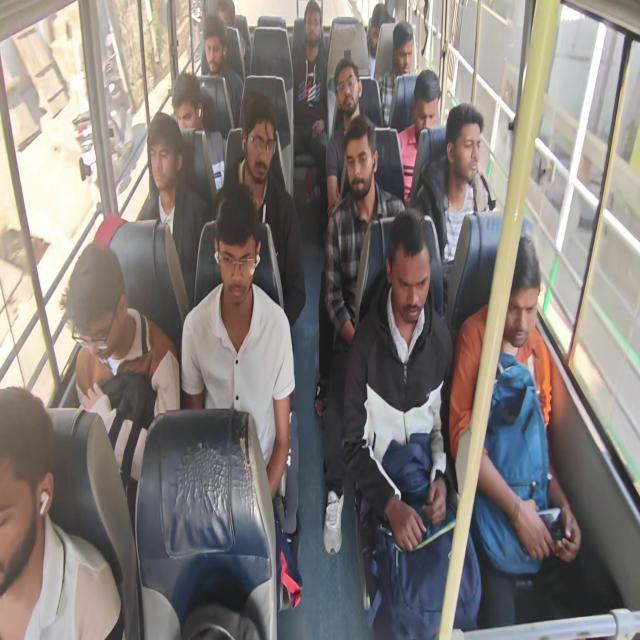person: (0, 388, 50, 602), (66, 243, 125, 372), (207, 197, 265, 323), (386, 218, 440, 346), (499, 240, 539, 352), (341, 137, 380, 196), (146, 122, 177, 196), (449, 106, 479, 182), (406, 71, 440, 133), (169, 80, 202, 140), (246, 115, 274, 180), (390, 24, 416, 74), (334, 65, 359, 109), (212, 0, 240, 39), (203, 23, 225, 68), (302, 6, 322, 46)
